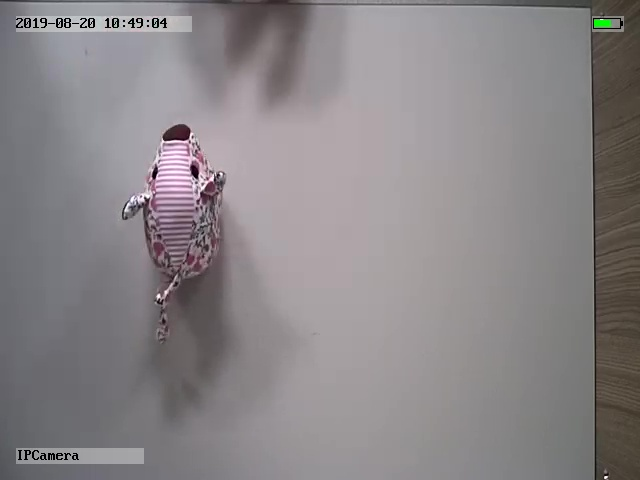pig: (119, 121, 227, 347)
